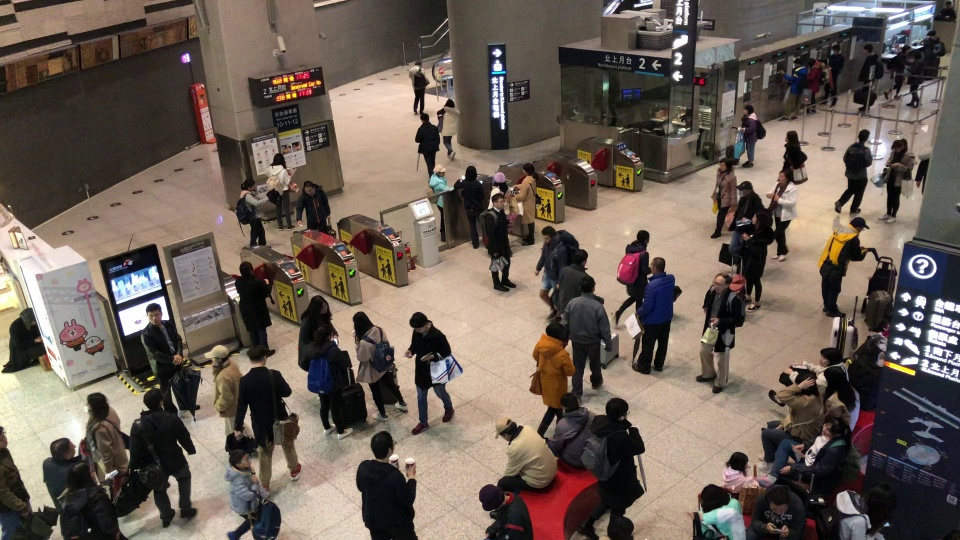person_head: (868, 482, 897, 515), (370, 430, 395, 462), (67, 461, 96, 488), (701, 482, 730, 509), (477, 483, 503, 511), (768, 486, 792, 514), (493, 416, 517, 443), (48, 436, 76, 459), (823, 367, 848, 391), (608, 516, 634, 539), (603, 397, 629, 420), (794, 372, 820, 395), (351, 309, 373, 333), (821, 417, 846, 438), (84, 392, 107, 414), (205, 344, 229, 365), (817, 347, 842, 367), (141, 386, 163, 408), (228, 448, 251, 469), (247, 344, 267, 366), (727, 451, 749, 471), (309, 294, 330, 314), (409, 311, 429, 332), (559, 391, 580, 411), (713, 272, 732, 293), (145, 302, 163, 324), (752, 209, 772, 227), (579, 276, 598, 294), (545, 321, 564, 338), (315, 325, 334, 341), (572, 248, 588, 267), (851, 216, 869, 232), (650, 256, 666, 274), (540, 225, 555, 244), (737, 180, 754, 196), (20, 306, 35, 323), (491, 192, 506, 209), (856, 127, 871, 143), (238, 260, 253, 275), (635, 228, 650, 243), (493, 170, 507, 186), (522, 162, 537, 176), (891, 137, 905, 152), (777, 168, 792, 182), (784, 129, 800, 142), (272, 152, 286, 166), (464, 164, 477, 179), (433, 163, 446, 177), (242, 177, 255, 190), (718, 157, 732, 169), (304, 179, 315, 194), (0, 427, 8, 447), (742, 103, 754, 115), (862, 42, 873, 54), (830, 44, 841, 55), (444, 98, 455, 108), (419, 112, 430, 121), (792, 57, 802, 66), (807, 56, 815, 66), (912, 49, 920, 59), (927, 29, 936, 37), (414, 59, 422, 67), (900, 46, 906, 54)
person_vbox: (233, 344, 302, 494), (576, 398, 646, 540), (129, 387, 197, 530), (750, 371, 824, 473), (768, 416, 863, 493), (758, 366, 861, 436), (355, 430, 419, 540), (140, 302, 200, 417), (402, 311, 455, 435), (351, 310, 409, 423), (693, 272, 746, 394), (562, 276, 613, 401), (302, 325, 355, 440), (222, 448, 282, 540), (529, 322, 575, 438), (816, 216, 869, 316), (630, 257, 676, 371), (204, 344, 254, 448), (57, 462, 123, 540), (813, 480, 898, 540), (494, 415, 558, 494), (766, 347, 850, 406), (534, 225, 579, 322), (297, 295, 338, 400), (233, 260, 276, 357), (543, 391, 596, 468), (610, 229, 651, 328), (478, 193, 517, 293), (0, 426, 33, 539), (84, 391, 129, 473), (740, 209, 774, 314), (745, 483, 807, 540), (834, 128, 874, 216), (685, 483, 746, 540), (876, 137, 916, 223), (764, 167, 798, 262), (477, 483, 534, 539), (41, 436, 82, 511), (1, 306, 46, 373), (452, 164, 485, 249), (727, 180, 763, 256), (264, 153, 296, 232), (234, 176, 270, 246), (512, 161, 542, 245), (709, 157, 738, 240), (426, 163, 455, 242), (556, 248, 589, 315), (776, 57, 809, 120), (857, 41, 884, 114), (738, 103, 767, 169), (296, 179, 331, 233), (414, 112, 441, 179), (721, 450, 761, 494), (817, 43, 844, 108), (804, 56, 829, 117), (437, 98, 460, 160), (884, 44, 907, 99), (486, 171, 512, 216), (904, 49, 923, 108), (782, 130, 808, 171), (408, 59, 427, 114), (922, 28, 946, 60)
